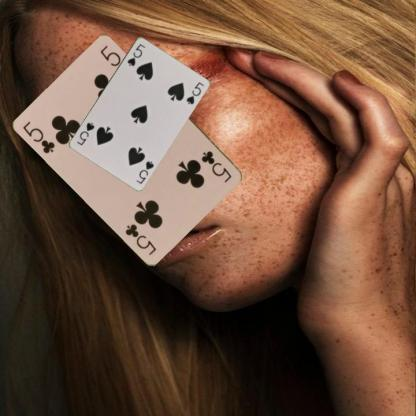5c: (21, 118, 57, 155), (199, 148, 233, 184)
5s: (133, 158, 155, 185), (124, 41, 146, 67)
